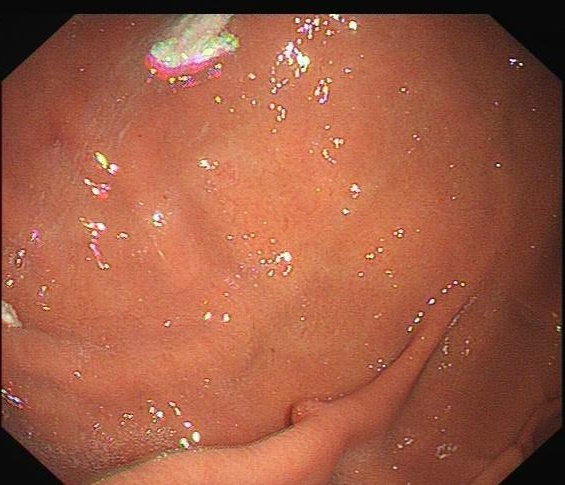Polyp: (279, 385, 334, 437)
